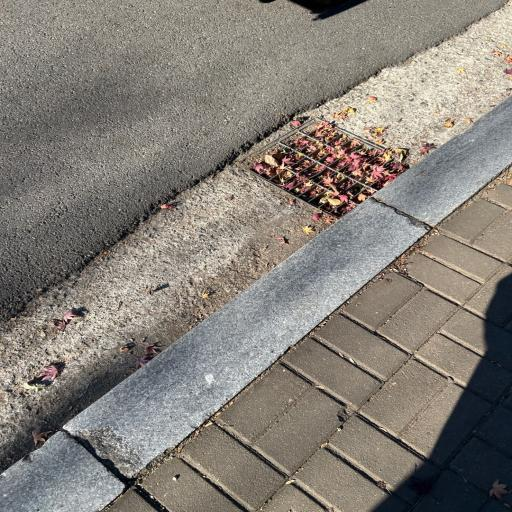debris: (321, 135, 369, 176), (366, 166, 395, 185), (253, 154, 277, 174), (317, 123, 335, 141), (275, 164, 292, 182), (286, 174, 306, 189), (323, 173, 345, 185), (283, 152, 303, 165), (306, 163, 324, 175), (340, 202, 356, 215), (358, 189, 374, 202), (295, 136, 312, 148), (293, 159, 313, 169), (295, 181, 313, 192), (328, 195, 347, 205), (318, 191, 335, 202), (305, 142, 323, 152), (389, 162, 407, 172), (318, 169, 334, 180), (316, 147, 333, 157), (379, 152, 393, 164), (340, 180, 355, 190), (309, 186, 323, 196), (366, 149, 382, 156), (351, 139, 361, 147)
drain: (241, 119, 416, 219)
